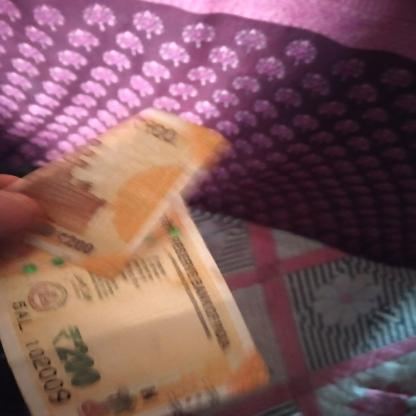New200Front: (3, 215, 244, 415)
